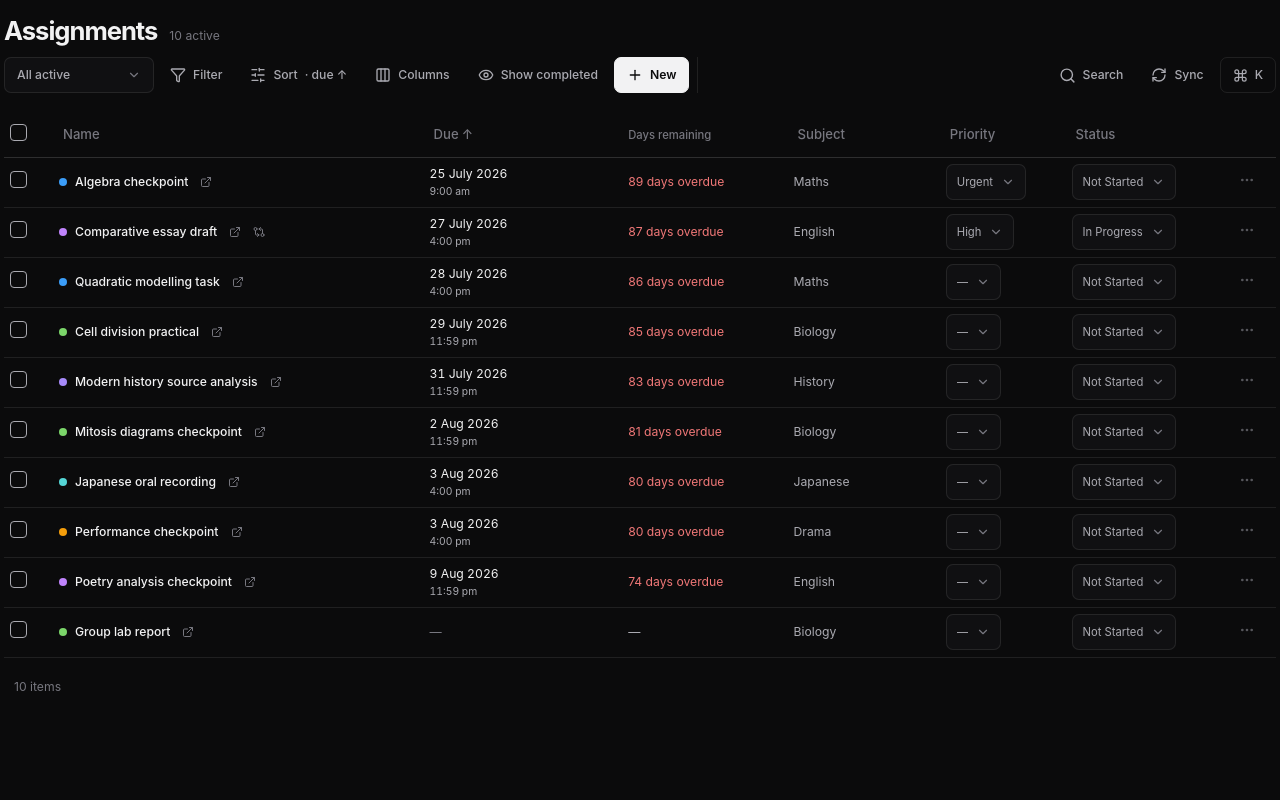
Assignment controls › switches between active and all assignments
Check: the text "Group lab report" is shown, box top-left (75, 623), bottom-right (170, 641)
Check: the text "Scene rehearsal" is not shown
Click the button with aria-label "Assignment view". click: (79, 75)
box: top-left (4, 57), bottom-right (154, 93)
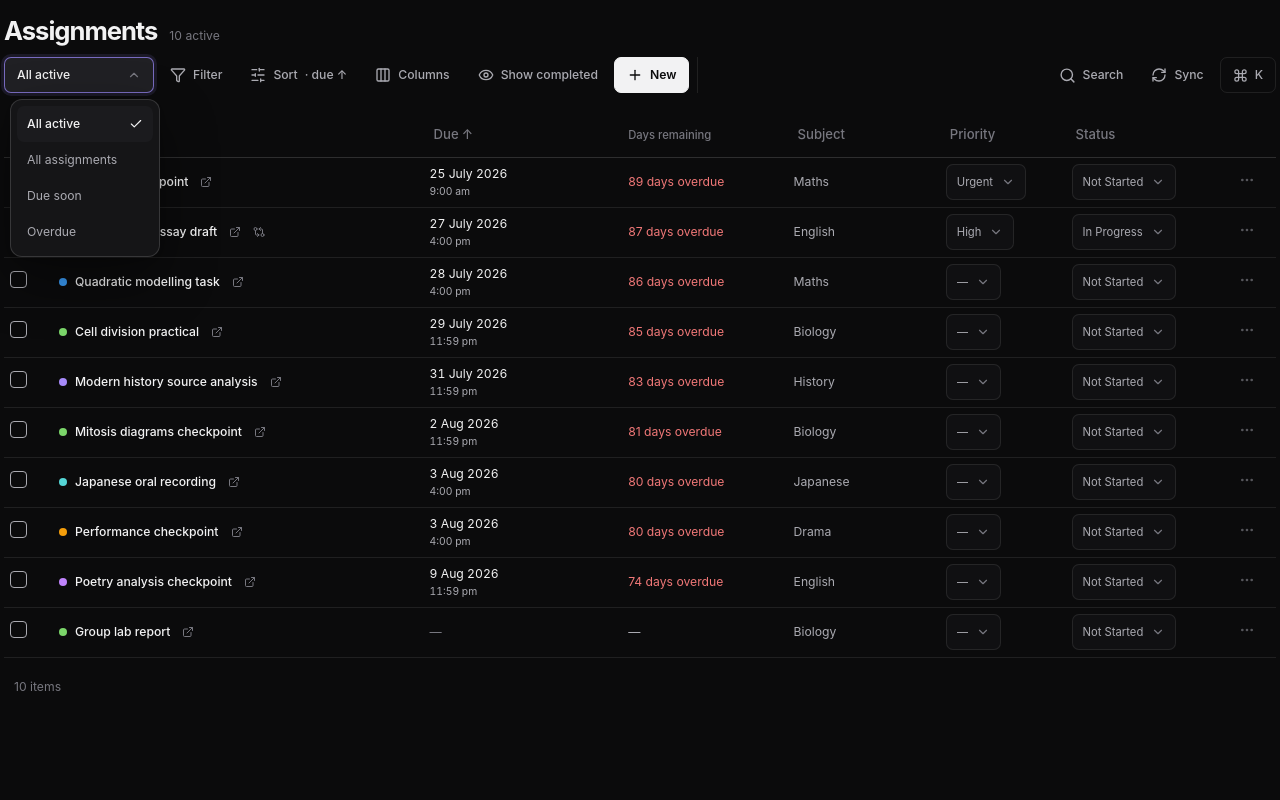
Click the option "All assignments". click: (85, 160)
box: top-left (17, 142), bottom-right (153, 178)
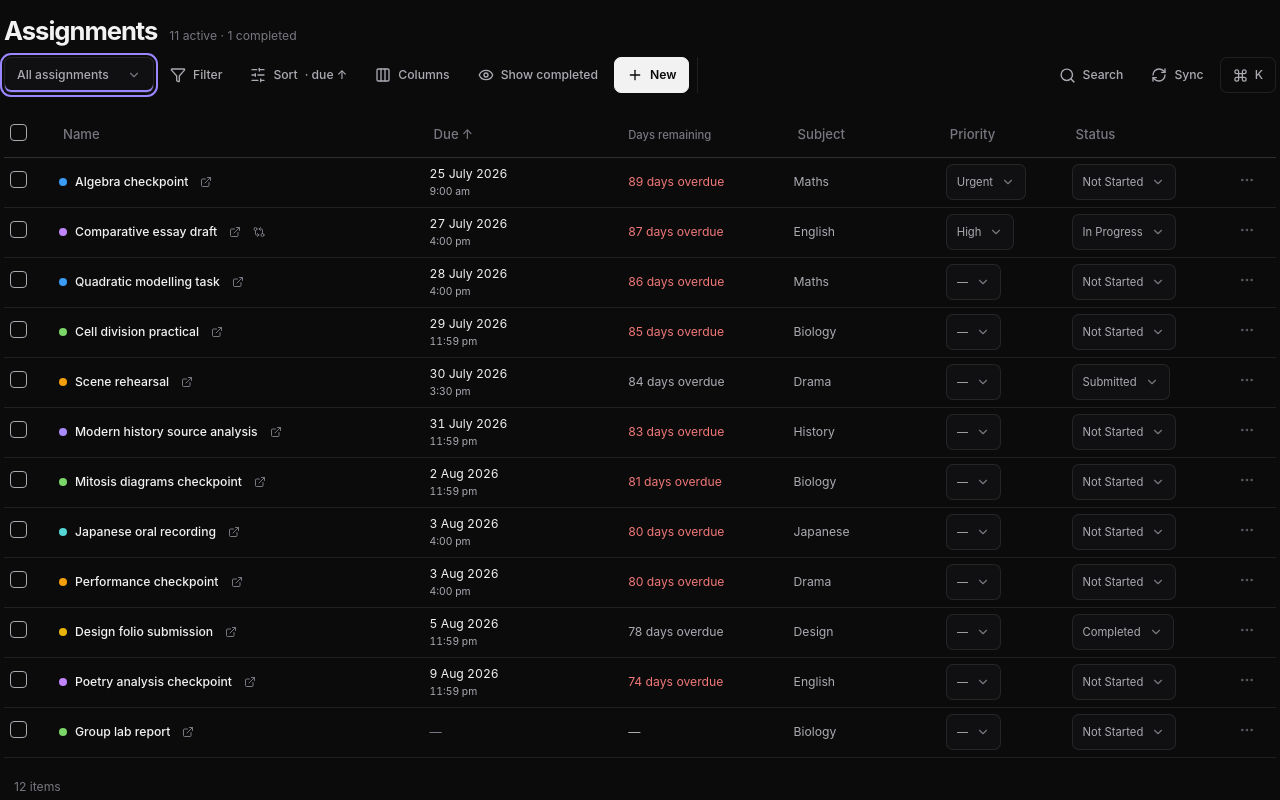
Check: the text "Poetry analysis checkpoint" is shown, box top-left (75, 673), bottom-right (232, 691)
Check: the text "Scene rehearsal" is shown, box top-left (75, 373), bottom-right (169, 391)
Click the button with aria-label "Assignment view". click: (79, 75)
box: top-left (4, 57), bottom-right (154, 93)
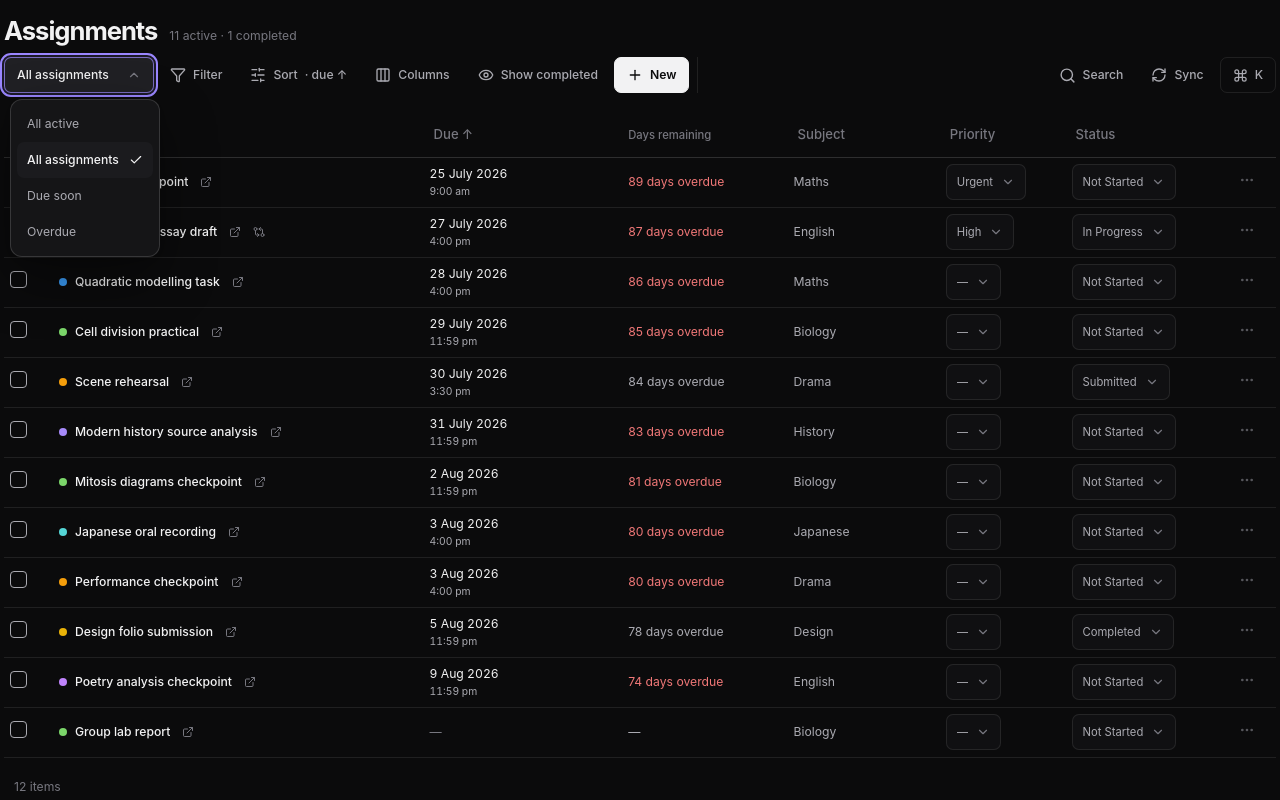
Click the option "All active". click: (85, 124)
box: top-left (17, 106), bottom-right (153, 142)
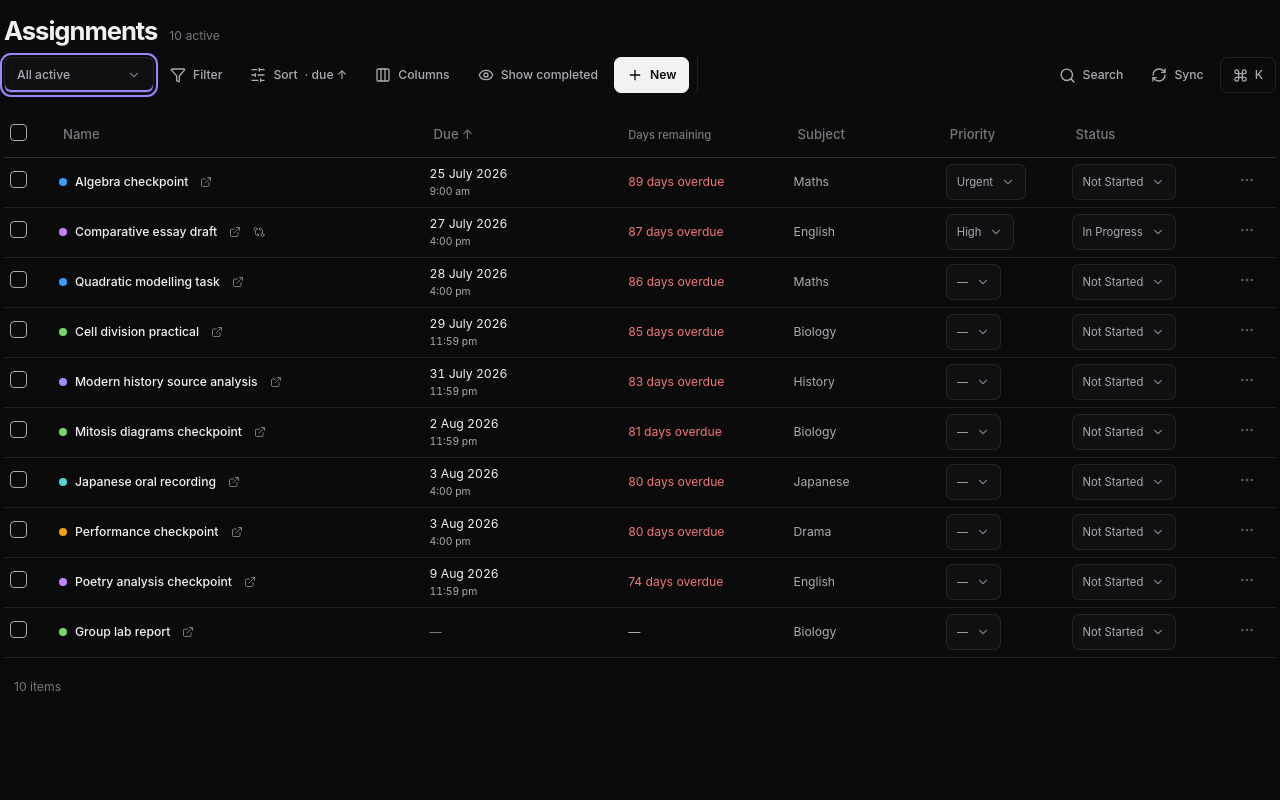
Check: the text "Scene rehearsal" is gone
